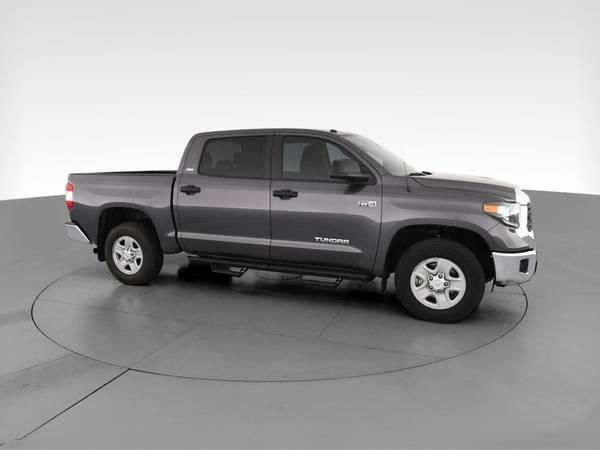Front_Bumper: (483, 225, 537, 287)
Front_Fender: (374, 173, 514, 277)
Front_Right_Door: (274, 180, 386, 274)
Front_Right_Window: (275, 129, 386, 182)
Front_Windshield: (334, 132, 424, 175)
Hood: (407, 169, 528, 202)
Rear_Bumper: (64, 221, 91, 246)
Rear_Fender: (68, 171, 178, 255)
Rear_Right_Door: (175, 172, 274, 261)
Rear_Right_Window: (179, 127, 276, 178)
Right_Headlight: (485, 199, 526, 234)
Right_Taillight: (65, 181, 73, 211)
Wheel: (394, 237, 486, 322), (102, 218, 161, 283)
